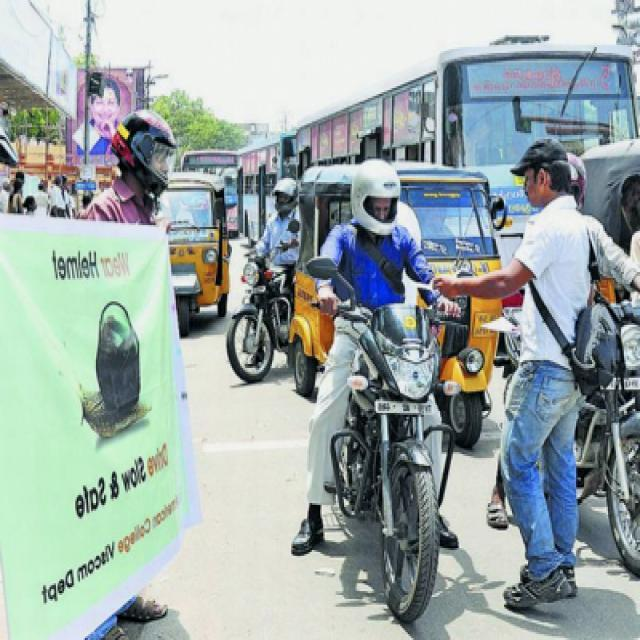Helmet: (104, 104, 186, 202), (342, 145, 414, 239)
